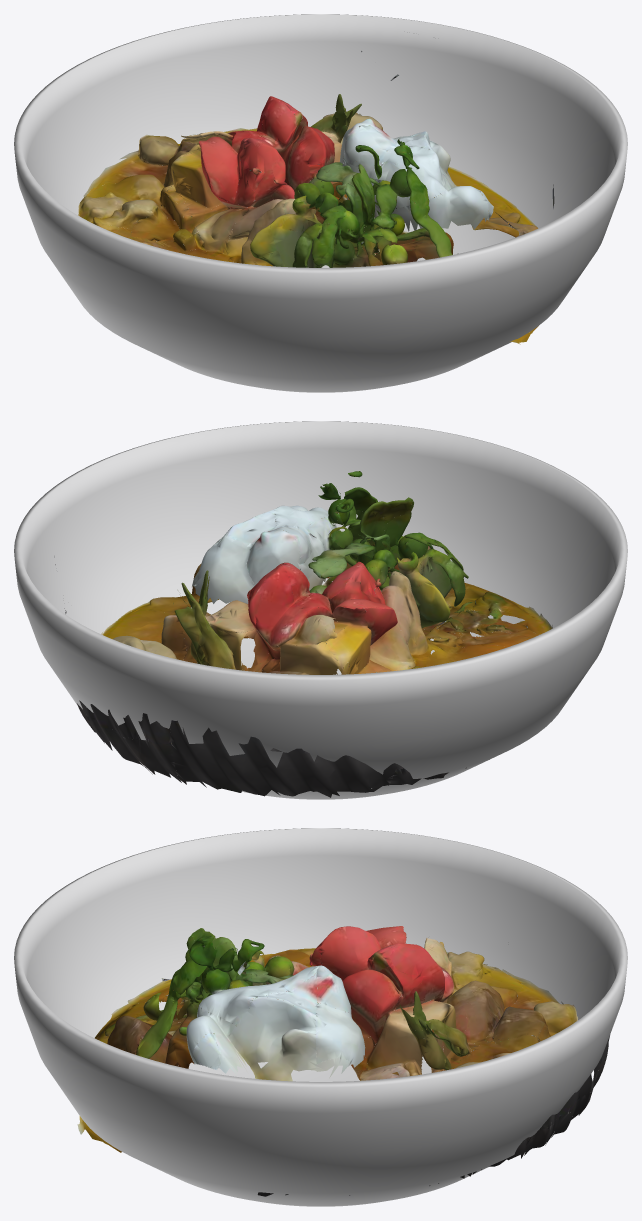
File: sorva.glb
3 views of the same model, one above another, from view 1: azimuth 30°, elevation 25°; view 2: azimuth 150°, elevation 25°; view 3: azimuth 270°, elevation 25° (orthographic).
Parts seen in each view (by area): view 1: bowl, tripo_node_645e7233-f7c1-44e1-b943-ac5241117faf; view 2: bowl, tripo_node_645e7233-f7c1-44e1-b943-ac5241117faf; view 3: bowl, tripo_node_645e7233-f7c1-44e1-b943-ac5241117faf.
Part boxes in pixels (x1=…): bowl: x1=14, y1=14, x2=627, y2=392; tripo_node_645e7233-f7c1-44e1-b943-ac5241117faf: x1=78, y1=51, x2=554, y2=344; bowl: x1=14, y1=421, x2=627, y2=799; tripo_node_645e7233-f7c1-44e1-b943-ac5241117faf: x1=54, y1=471, x2=552, y2=797; bowl: x1=14, y1=828, x2=627, y2=1206; tripo_node_645e7233-f7c1-44e1-b943-ac5241117faf: x1=77, y1=926, x2=609, y2=1196.
Bounding box in the file's own units: 1.03 × 0.3892 × 1.03.
2 materials, 1 textured.
